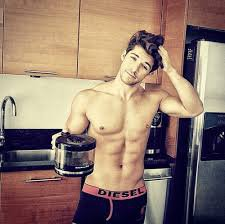noMask: (115, 33, 161, 87)
